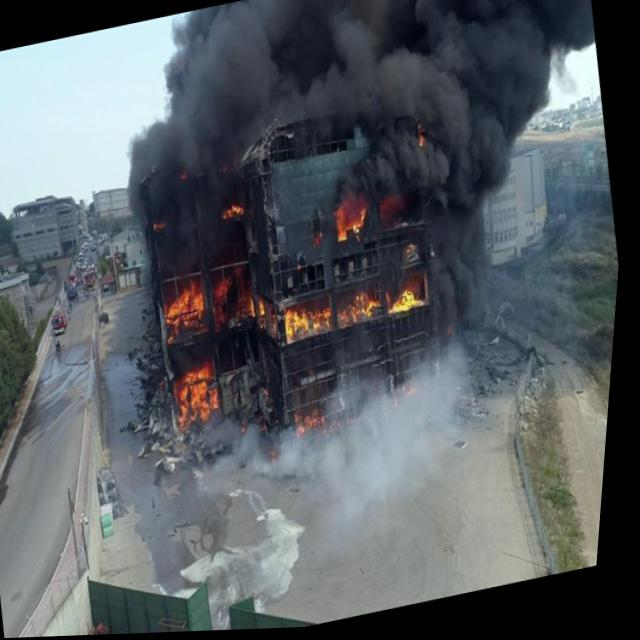fire: (173, 361, 233, 434), (272, 293, 344, 350), (162, 279, 216, 342), (295, 395, 353, 448), (382, 282, 437, 327), (332, 200, 376, 251), (208, 271, 246, 329), (246, 285, 283, 333), (375, 190, 414, 232), (217, 198, 254, 226), (413, 120, 430, 155), (406, 378, 427, 402), (271, 445, 287, 468), (314, 228, 330, 251), (180, 168, 196, 187), (154, 218, 171, 233), (244, 420, 255, 438), (266, 387, 277, 400)
